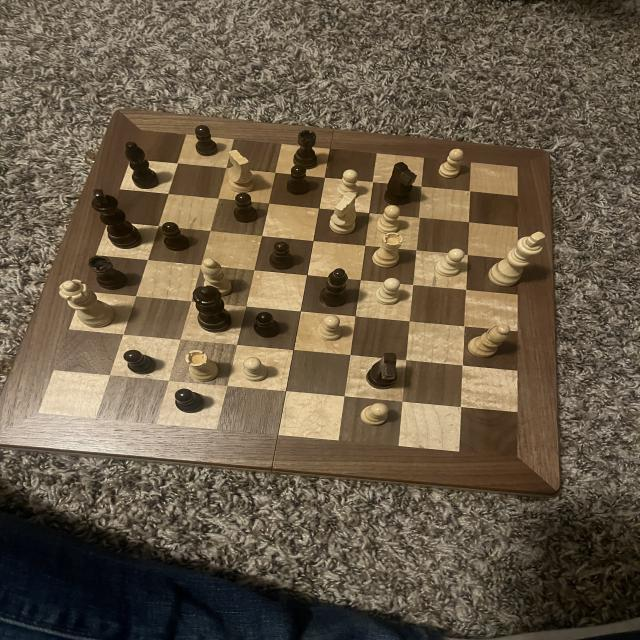bishop: (121, 137, 160, 193), (315, 267, 354, 310)
black-bishop: (91, 186, 146, 250)
black-king: (380, 162, 424, 208), (362, 348, 404, 392)
black-knight: (157, 220, 193, 257), (227, 192, 265, 226), (284, 163, 320, 198), (122, 350, 163, 380), (265, 241, 302, 274), (190, 122, 221, 160), (250, 310, 286, 342), (173, 388, 207, 417)
black-pawn: (187, 285, 234, 336)
black-queen: (84, 251, 130, 293), (289, 128, 324, 172)
black-rook: (466, 323, 519, 361), (198, 257, 235, 299)
white-bishop: (482, 230, 551, 290)
white-king: (324, 189, 368, 238), (226, 148, 261, 192)
white-knight: (434, 146, 468, 182), (239, 354, 274, 384), (433, 247, 468, 277), (373, 201, 403, 236), (356, 401, 393, 429), (372, 276, 406, 306), (336, 167, 365, 198), (316, 314, 348, 342)
white-pawn: (58, 279, 118, 329)
white-queen: (183, 349, 223, 384), (372, 229, 406, 269)
